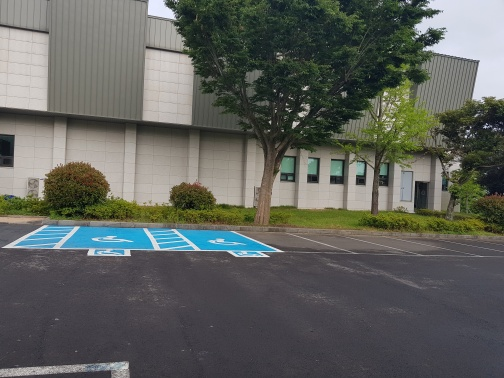Gym: (6, 4, 482, 221), (282, 154, 444, 212)
